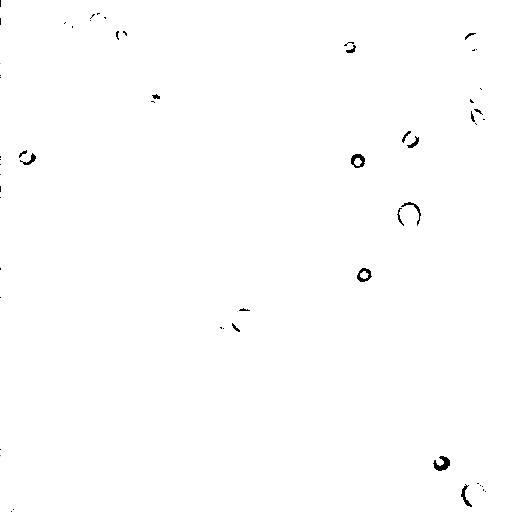micro-algae: (254, 415, 291, 446), (50, 9, 84, 41), (394, 199, 423, 233), (459, 480, 491, 509), (229, 308, 255, 334), (463, 29, 486, 52), (465, 105, 487, 127), (16, 147, 38, 168), (467, 83, 487, 105), (431, 453, 452, 473), (399, 129, 419, 149), (87, 10, 107, 28), (353, 266, 373, 283), (348, 151, 366, 169), (115, 25, 131, 45), (342, 39, 359, 54)
